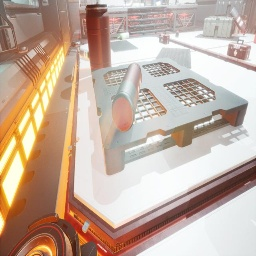0: (80, 48, 90, 60), (117, 32, 129, 40), (132, 3, 142, 7), (154, 1, 160, 6), (140, 3, 144, 6)
EmergencyPhone ,: (185, 3, 186, 4)
FireExtinguisher ]: (175, 31, 179, 37), (166, 0, 168, 5)
FirstAidBox ,: (227, 39, 251, 60), (159, 31, 170, 44), (253, 33, 256, 44)
NitrogenTank ,: (111, 62, 142, 132), (230, 7, 248, 36)
SafetySwitchPanel ,: (42, 0, 48, 6), (180, 4, 184, 5)
